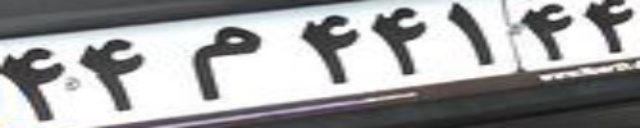1: (440, 0, 501, 65)
4: (0, 46, 70, 121), (78, 38, 148, 111), (300, 14, 358, 84), (370, 6, 425, 74), (521, 3, 572, 59), (583, 1, 630, 53)
mim: (186, 25, 264, 99)
